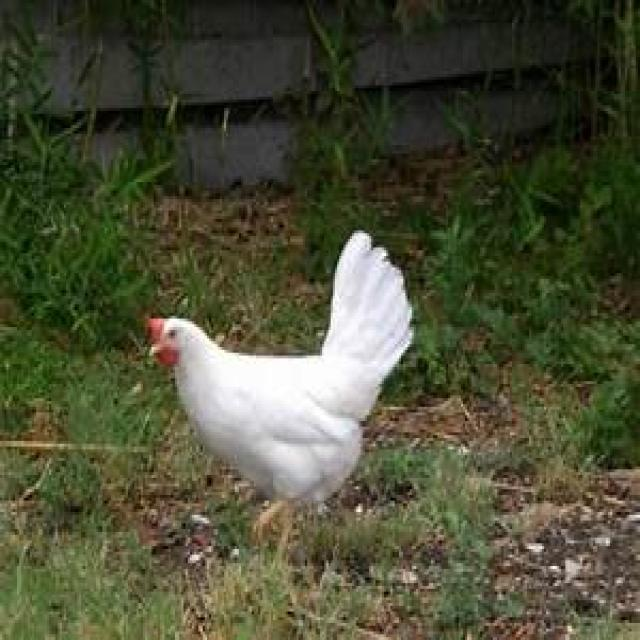hen: (145, 230, 416, 532)
